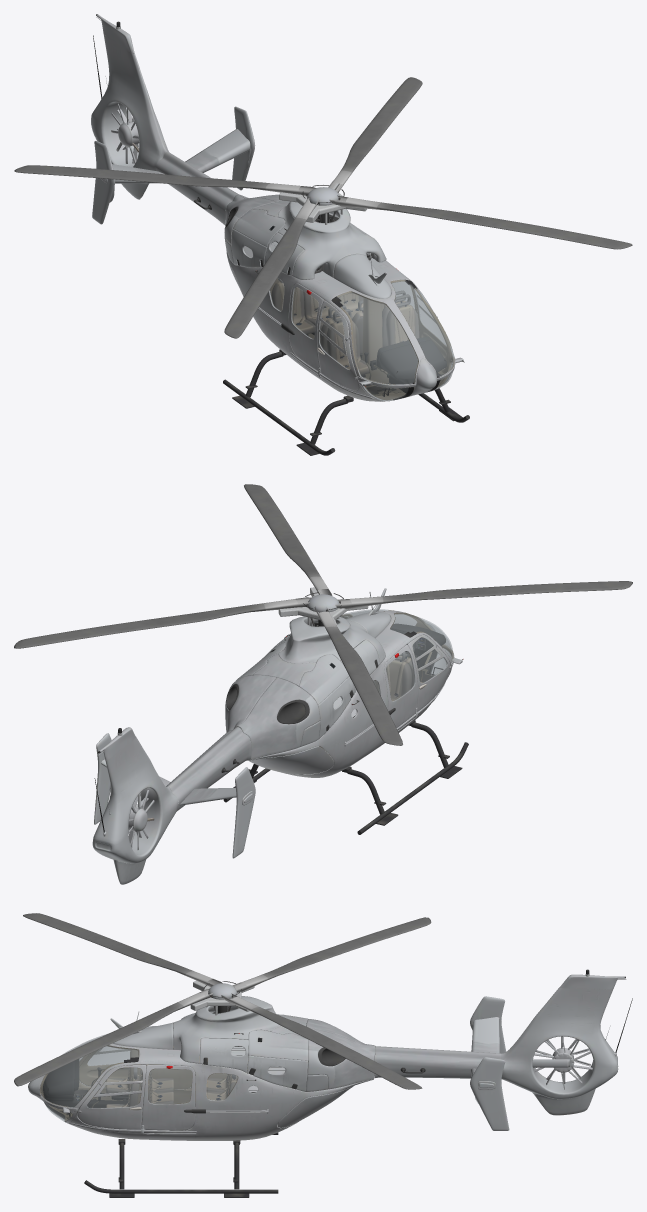
Rendered from helico_ec135_realiste.m.glb.
3 views of the same model, one above another, from view 1: azimuth 30°, elevation 25°; view 2: azimuth 150°, elevation 25°; view 3: azimuth 270°, elevation 25° (orthographic). The views are drawn at different scales.
Parts seen in each view (by area): view 1: cellule, rotor_principal, vitrages, door_FR, door_RR, door_FR_glass, door_RR_glass, rotor_anticouple; view 2: cellule, rotor_principal, vitrages, door_FR, door_RR, door_RR_glass, door_FR_glass, rotor_anticouple; view 3: cellule, rotor_principal, vitrages, door_FL, door_RL, door_RL._glass, door_FL_glass, door_FR, door_RR, door_FR_glass, rotor_anticouple.
Boxes of the visible parts, left/top/right/bottom form: cellule: left=91, top=14, right=469, bottom=455; rotor_principal: left=14, top=77, right=632, bottom=338; vitrages: left=96, top=14, right=454, bottom=401; door_FR: left=317, top=300, right=359, bottom=390; door_RR: left=281, top=283, right=323, bottom=378; door_FR_glass: left=319, top=306, right=350, bottom=369; door_RR_glass: left=291, top=287, right=318, bottom=338; rotor_anticouple: left=111, top=103, right=139, bottom=164; cellule: left=92, top=588, right=468, bottom=884; rotor_principal: left=14, top=484, right=632, bottom=745; vitrages: left=98, top=609, right=453, bottom=753; door_FR: left=407, top=635, right=452, bottom=711; door_RR: left=384, top=645, right=418, bottom=727; door_RR_glass: left=386, top=651, right=415, bottom=700; door_FR_glass: left=412, top=637, right=447, bottom=682; rotor_anticouple: left=128, top=789, right=154, bottom=849; cellule: left=28, top=974, right=632, bottom=1197; rotor_principal: left=14, top=913, right=431, bottom=1089; vitrages: left=40, top=969, right=625, bottom=1121; door_FL: left=76, top=1065, right=146, bottom=1129; door_RL: left=141, top=1065, right=205, bottom=1134; door_RL._glass: left=148, top=1068, right=192, bottom=1104; door_FL_glass: left=87, top=1068, right=142, bottom=1108; door_FR: left=79, top=1049, right=129, bottom=1087; door_RR: left=151, top=1064, right=192, bottom=1089; door_FR_glass: left=87, top=1046, right=129, bottom=1065; rotor_anticouple: left=536, top=1036, right=590, bottom=1083.
Size of the model in its own units: 8.55 by 4.4 by 12.68.
Materials: 5 (4 with a texture image).
